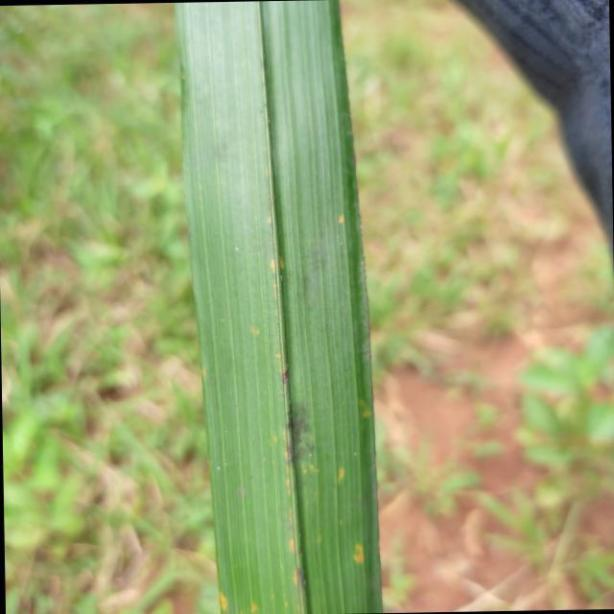Kalium: (178, 0, 377, 614)
